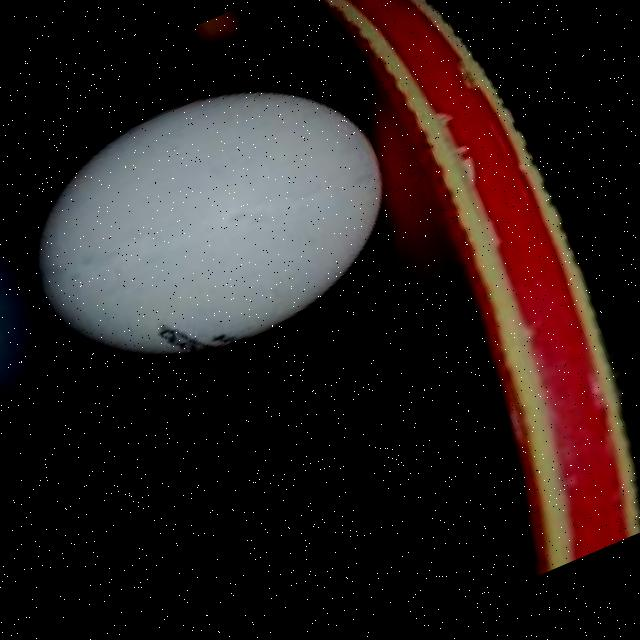ping-pong-ball: (0, 39, 426, 408)
